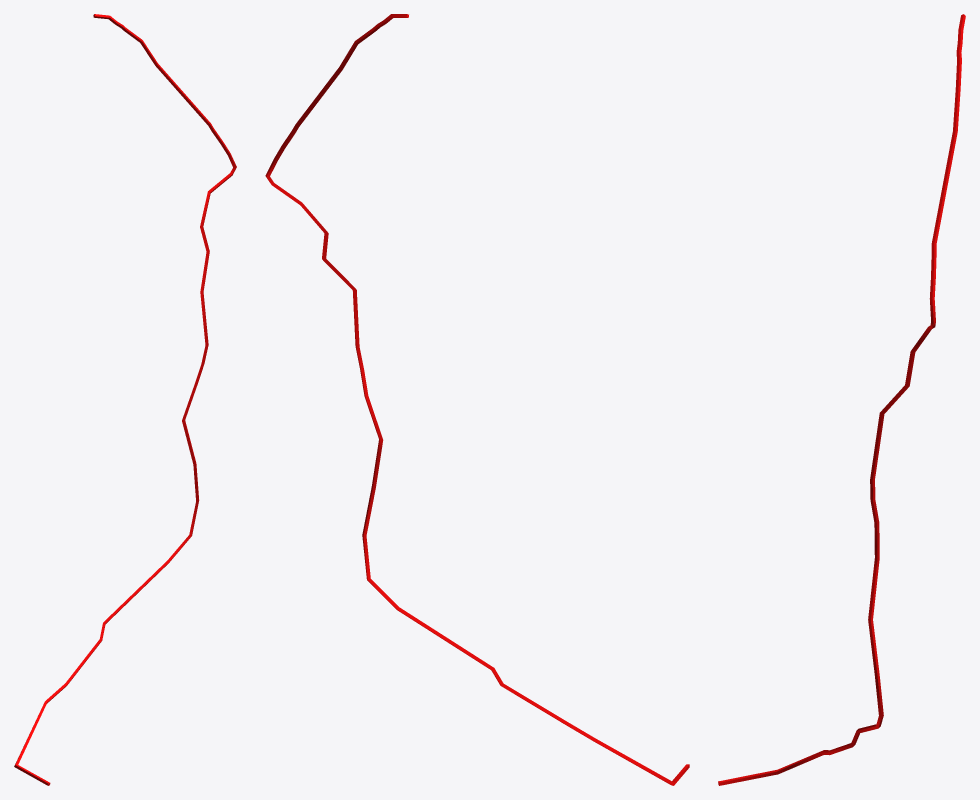
File: overlayObject.glb
3 renders of one model, left to right at view 1: azimuth 30°, elevation 25°; view 2: azimuth 150°, elevation 25°; view 3: azimuth 270°, elevation 25°, orthographic. The views are drawn at different scales.
Parts seen in each view (by area): view 1: esriGeometryMultiPatch; view 2: esriGeometryMultiPatch; view 3: esriGeometryMultiPatch.
Boxes of the visible parts, bbox=[...] form: esriGeometryMultiPatch: bbox=[14, 14, 236, 785]; esriGeometryMultiPatch: bbox=[265, 14, 689, 785]; esriGeometryMultiPatch: bbox=[718, 14, 965, 785].
Bounding box in the file's own units: 2.85 × 6.42 × 1.68.
